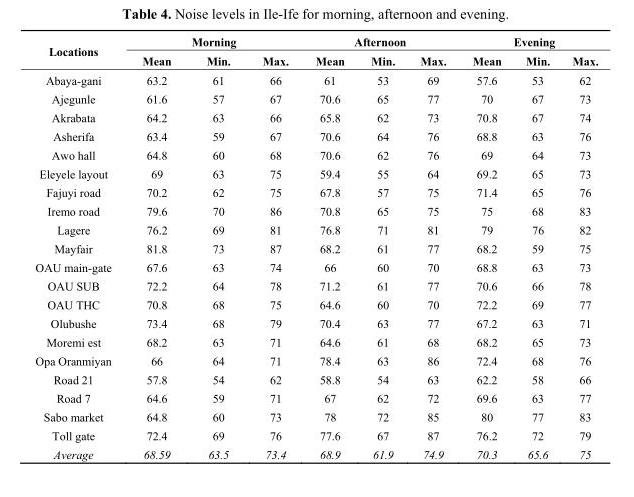table: (34, 34, 597, 460)
table column: (34, 34, 126, 460), (126, 34, 188, 460), (188, 34, 245, 460), (245, 34, 301, 460), (301, 34, 357, 460), (458, 34, 512, 460), (406, 34, 458, 460), (357, 34, 406, 460), (512, 34, 560, 460), (560, 34, 597, 460)
table column header: (34, 34, 597, 70)
table row: (34, 50, 597, 70), (34, 70, 597, 89), (34, 107, 597, 126), (34, 126, 597, 145), (34, 145, 597, 164), (34, 182, 597, 201), (34, 201, 597, 220), (34, 238, 597, 257), (34, 257, 597, 276), (34, 294, 597, 313), (34, 313, 597, 332), (34, 332, 597, 351), (34, 369, 597, 388), (34, 388, 597, 407), (34, 425, 597, 444), (34, 89, 597, 107), (34, 164, 597, 182), (34, 220, 597, 238), (34, 276, 597, 294), (34, 351, 597, 369), (34, 407, 597, 425), (34, 34, 597, 50), (34, 444, 597, 460)
table spanning cell: (34, 34, 126, 70), (126, 34, 301, 50), (301, 34, 458, 50), (458, 34, 597, 50)
